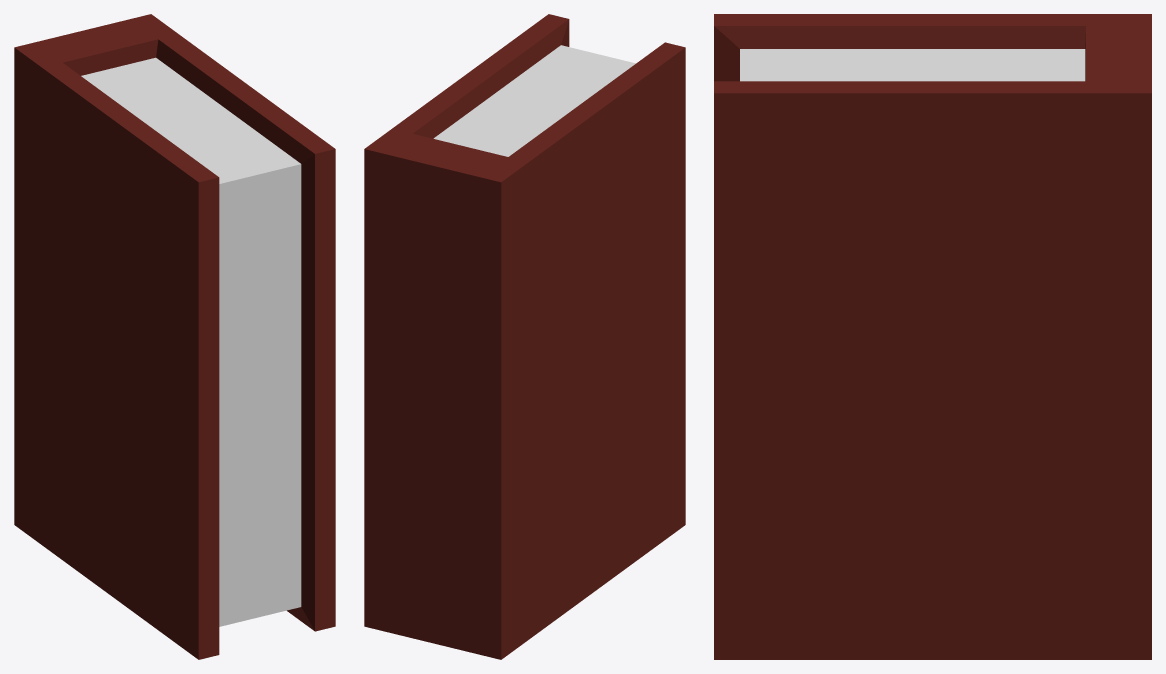
File: book.fbx
The picture shows the model from 3 angles, left to right: view 1: azimuth 30°, elevation 25°; view 2: azimuth 150°, elevation 25°; view 3: azimuth 270°, elevation 25°; orthographic projection. The views are drawn at different scales.
Parts seen in each view (by area): view 1: Book; view 2: Book; view 3: Book.
Part boxes in pixels (x1,y1,x2,y2): Book: [14, 14, 335, 659]; Book: [364, 14, 685, 659]; Book: [714, 14, 1151, 659].
Bounding box in the file's own units: 6 × 20 × 14.
